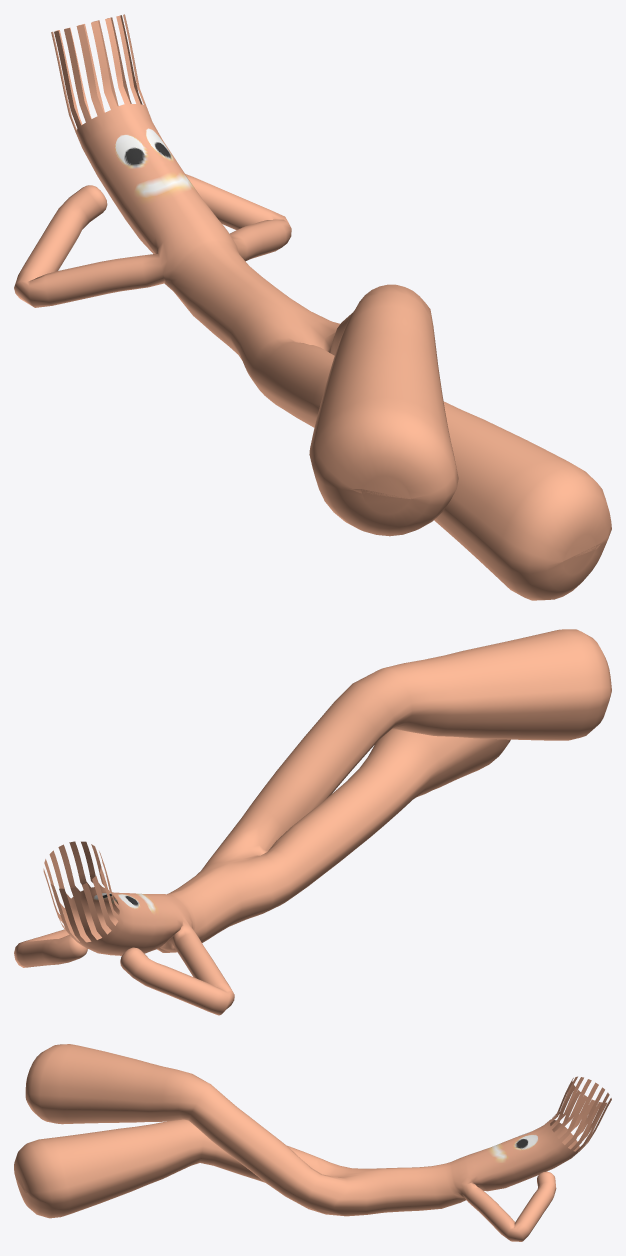
3 renders of one model, top to bottom at view 1: azimuth 30°, elevation 25°; view 2: azimuth 150°, elevation 25°; view 3: azimuth 270°, elevation 25°, orthographic. The views are drawn at different scales.
Parts seen in each view (by area): view 1: Retopo_Circle.004; view 2: Retopo_Circle.004; view 3: Retopo_Circle.004.
Part boxes in pixels (x1,y1,x2,y2): Retopo_Circle.004: [14, 14, 611, 600]; Retopo_Circle.004: [14, 629, 611, 1015]; Retopo_Circle.004: [14, 1044, 611, 1241].
Size of the model in its own units: 203 by 131 by 514.
Materials: 1 (1 with a texture image).
